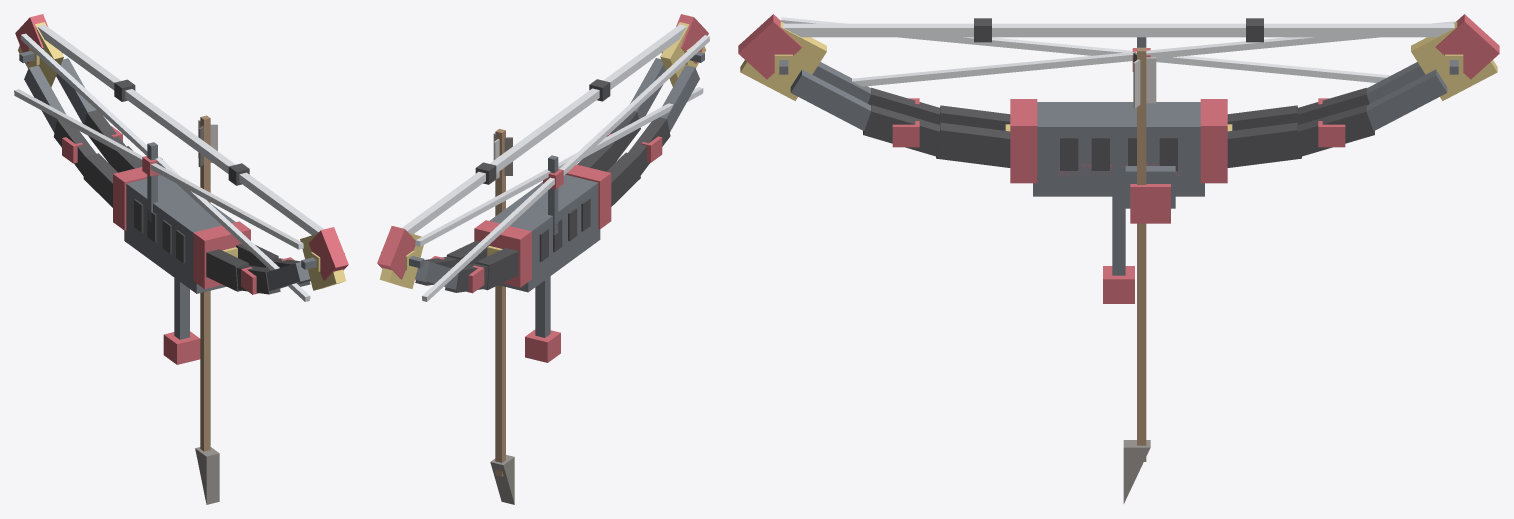
File: art_prismatic_arbalest.fbx
3 renders of one model, left to right at view 1: azimuth 30°, elevation 25°; view 2: azimuth 150°, elevation 25°; view 3: azimuth 270°, elevation 25°, orthographic. The views are drawn at different scales.
Visible parts, largest first — view 1: Handle, BowString, BussCable_1, BussCable_2, ArrowShaft, LimbPocket_L, CamL_Lobe, SplitL_R1, SplitU_R1, ArrowHead, LimbPocket_U, SplitU_R3 (+13 smaller); view 2: Handle, BowString, BussCable_2, ArrowShaft, BussCable_1, LimbPocket_U, CamU_Lobe, LimbPocket_L, SplitL_R1, SplitL_R3, SplitU_R1, StabWeight (+13 smaller); view 3: Handle, BowString, BussCable_1, BussCable_2, ArrowShaft, SplitL_L1, SplitU_L1, LimbPocket_L, LimbPocket_U, SplitL_L3, SplitU_L3, CamL_Lobe (+16 smaller).
Part boxes in pixels (<box>): Handle: <box>124,175,235,293</box>; BowString: <box>37,24,323,235</box>; BussCable_1: <box>20,33,310,301</box>; BussCable_2: <box>14,89,303,249</box>; ArrowShaft: <box>200,115,210,451</box>; LimbPocket_L: <box>193,221,250,289</box>; CamL_Lobe: <box>309,227,348,280</box>; SplitL_R1: <box>206,249,248,291</box>; SplitU_R1: <box>83,153,117,207</box>; ArrowHead: <box>195,447,219,504</box>; LimbPocket_U: <box>113,167,160,230</box>; SplitU_R3: <box>24,65,66,132</box>; Handle: <box>489,174,600,292</box>; BowString: <box>402,24,686,233</box>; BussCable_2: <box>422,35,709,301</box>; ArrowShaft: <box>495,129,505,476</box>; BussCable_1: <box>415,87,703,246</box>; LimbPocket_U: <box>474,220,531,287</box>; CamU_Lobe: <box>377,226,415,279</box>; LimbPocket_L: <box>565,164,611,229</box>; SplitL_R1: <box>606,152,640,206</box>; SplitL_R3: <box>660,65,699,132</box>; SplitU_R1: <box>476,248,518,290</box>; StabWeight: <box>525,329,560,362</box>; Handle: <box>1033,102,1204,196</box>; BowString: <box>783,23,1454,37</box>; BussCable_1: <box>852,21,1456,86</box>; BussCable_2: <box>781,17,1390,82</box>; ArrowShaft: <box>1137,47,1146,461</box>; SplitL_L1: <box>936,122,1010,167</box>; SplitU_L1: <box>1227,122,1301,167</box>; LimbPocket_L: <box>1010,99,1037,183</box>; LimbPocket_U: <box>1200,99,1227,183</box>; SplitL_L3: <box>790,69,871,130</box>; SplitU_L3: <box>1366,69,1447,130</box>; CamL_Lobe: <box>738,14,802,79</box>.
Bounding box in the file's own units: 0.4185 × 2.26 × 3.36.
